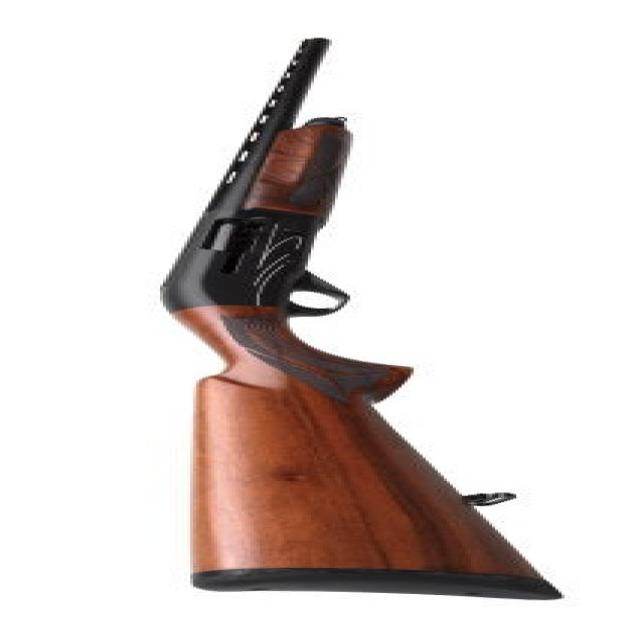rifle: (149, 33, 586, 612)
